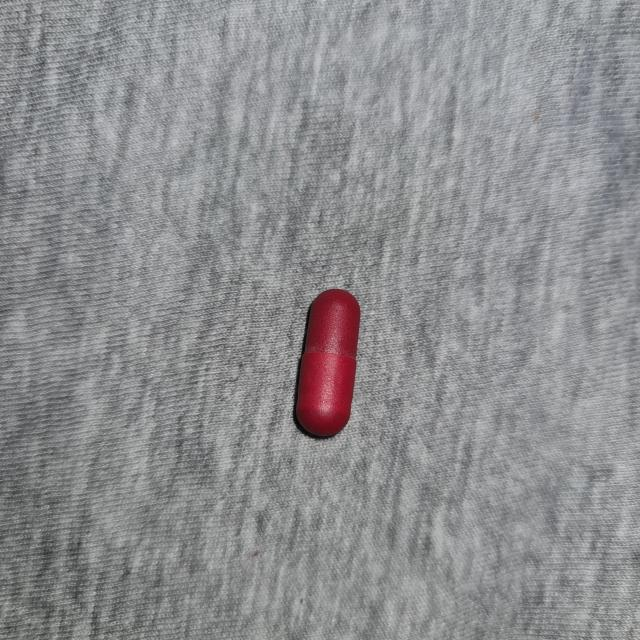pill: (291, 288, 362, 440)
